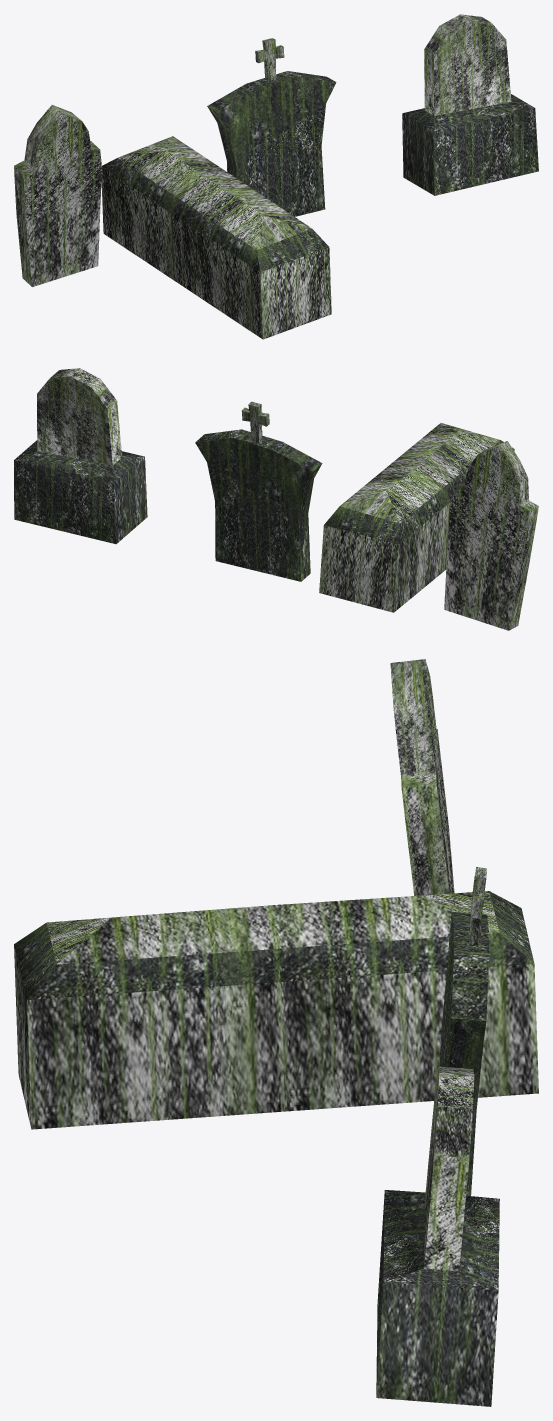
File: headstonesGroup2.fbx
The picture shows the model from 3 angles, top to bottom: view 1: azimuth 30°, elevation 25°; view 2: azimuth 150°, elevation 25°; view 3: azimuth 270°, elevation 25°; orthographic projection. The views are drawn at different scales.
Visible parts, largest first — view 1: Gravestone19, Gravestone8, Gravestone10, Gravestone9, Gravestone15; view 2: Gravestone19, Gravestone8, Gravestone9, Gravestone10, Gravestone15; view 3: Gravestone19, Gravestone8, Gravestone10, Gravestone9, Gravestone15.
Part boxes in pixels (<box>): Gravestone19: <box>101,136,331,339</box>; Gravestone8: <box>402,14,538,195</box>; Gravestone10: <box>14,105,101,287</box>; Gravestone9: <box>207,71,336,216</box>; Gravestone15: <box>255,38,284,81</box>; Gravestone19: <box>319,423,514,612</box>; Gravestone8: <box>14,368,147,544</box>; Gravestone9: <box>195,429,322,581</box>; Gravestone10: <box>444,441,538,630</box>; Gravestone15: <box>241,401,269,442</box>; Gravestone19: <box>14,891,538,1129</box>; Gravestone8: <box>376,1066,499,1406</box>; Gravestone10: <box>390,659,454,895</box>; Gravestone9: <box>439,912,488,1195</box>; Gravestone15: <box>469,867,486,945</box>.
Bounding box in the file's own units: 1868 × 625 × 912.
Materials: 1 (1 with a texture image).
